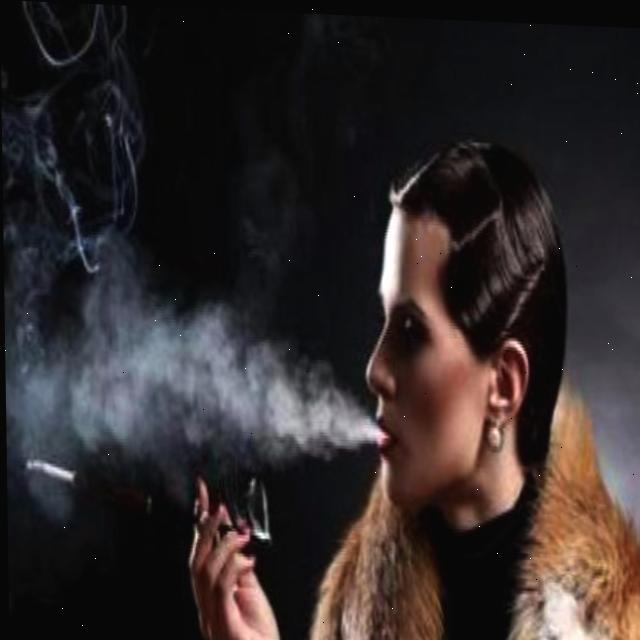cigarette: (24, 453, 77, 484)
